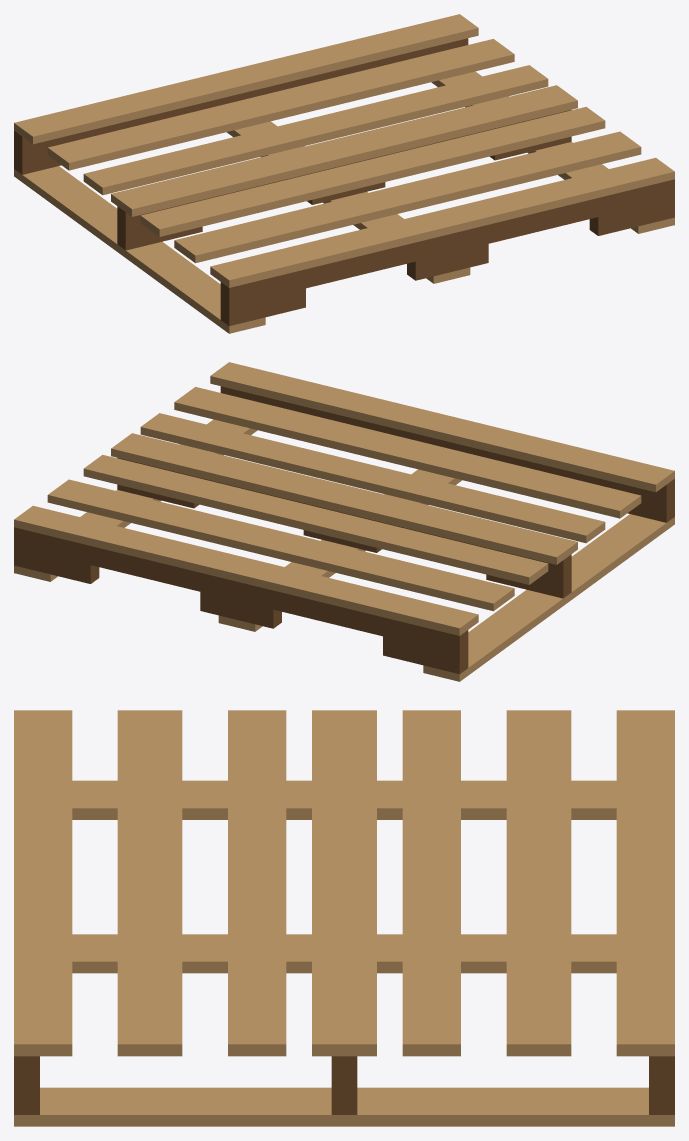
Rendered from pallet.glb.
3 views of the same model, one above another, from view 1: azimuth 30°, elevation 25°; view 2: azimuth 150°, elevation 25°; view 3: azimuth 270°, elevation 25° (orthographic). The views are drawn at different scales.
Visible parts, largest first — view 1: pallet:compound; view 2: pallet:compound; view 3: pallet:compound.
Boxes of the visible parts, x1,y1,x2,y2 form: pallet:compound: (14, 14, 674, 333); pallet:compound: (14, 362, 674, 681); pallet:compound: (14, 710, 674, 1126).
Bounding box in the file's own units: 1.22 × 0.14 × 1.02.
